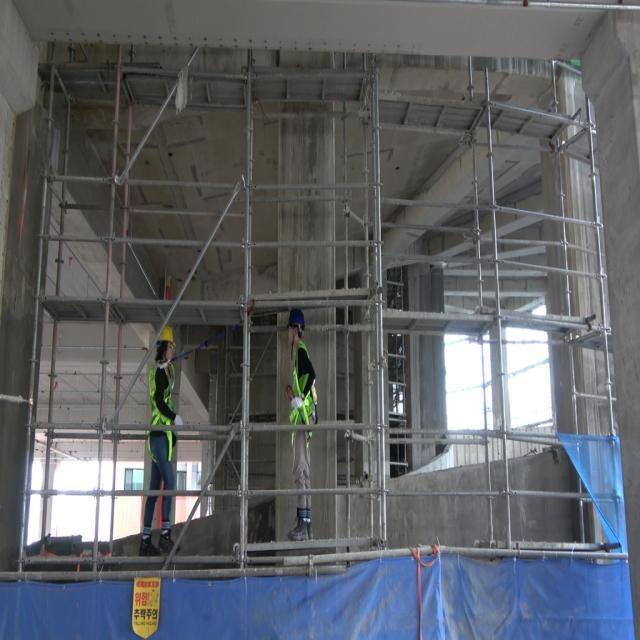Arnes_seguridad: (148, 361, 172, 462), (292, 342, 313, 447)
